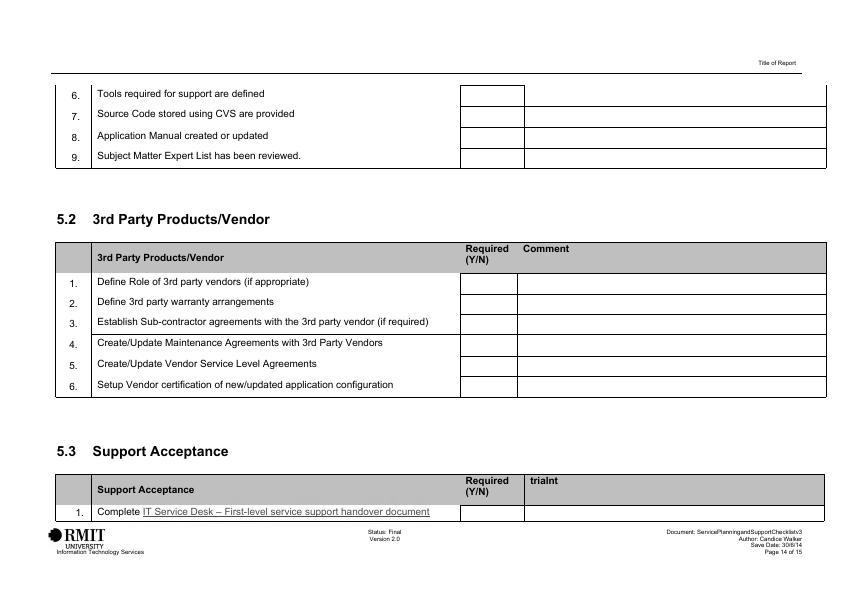table: (47, 236, 833, 408), (44, 69, 834, 173), (53, 472, 830, 526)
text: (666, 526, 808, 556), (56, 210, 274, 228), (53, 442, 234, 461), (365, 527, 406, 544)
